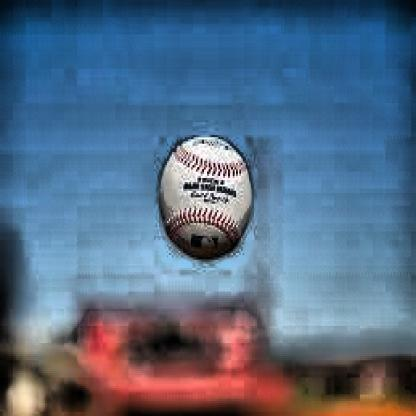baseball: (160, 133, 255, 260)
